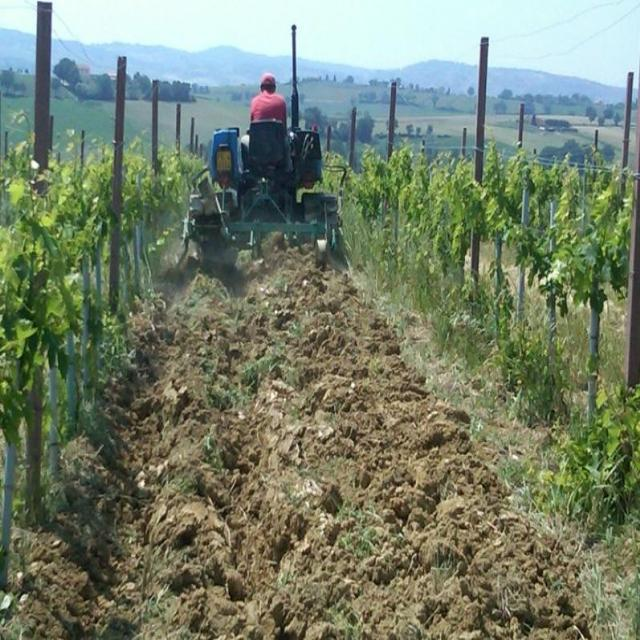row: (5, 222, 639, 639)
